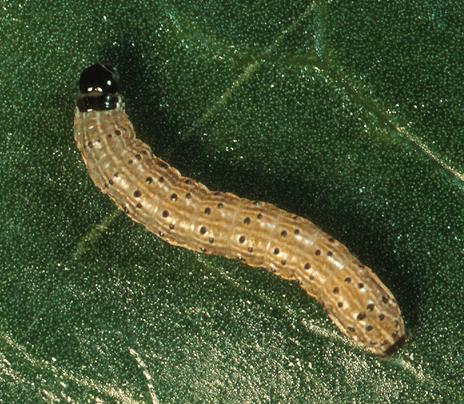Armyworm: (61, 54, 410, 371)
